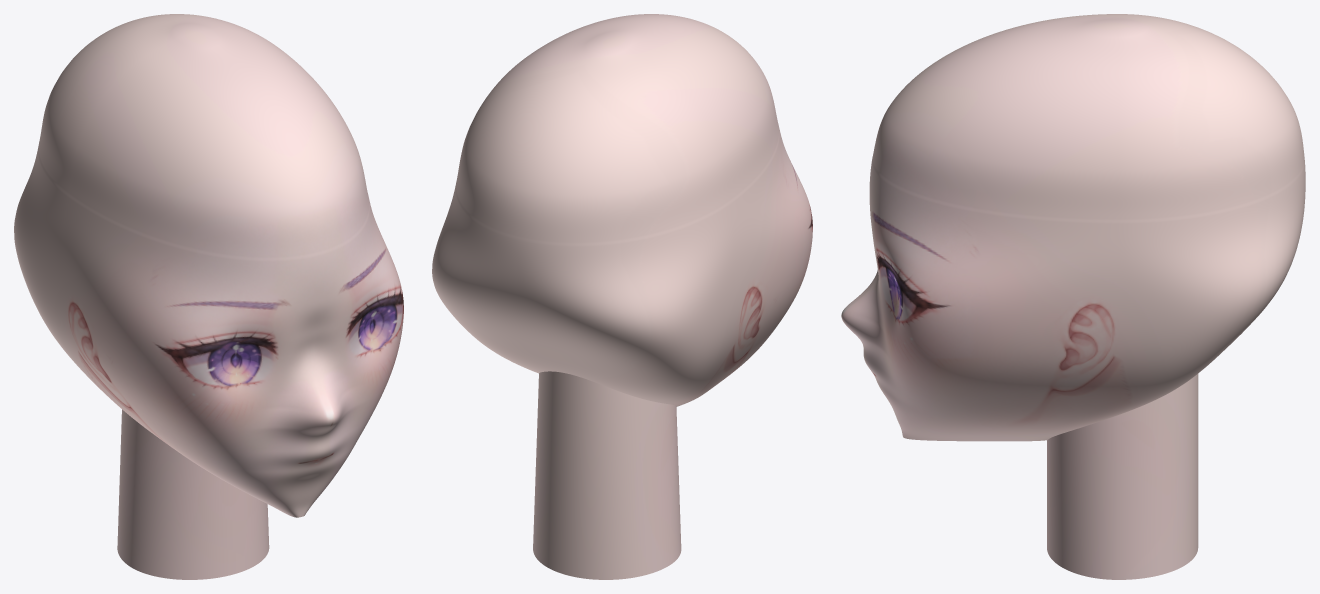
The model's file is sample2.glb.
The picture shows the model from 3 angles, left to right: view 1: azimuth 30°, elevation 25°; view 2: azimuth 150°, elevation 25°; view 3: azimuth 270°, elevation 25°; orthographic projection. The views are drawn at different scales.
Visible parts, largest first — view 1: Head; view 2: Head; view 3: Head.
Boxes of the visible parts, <box> form: Head: <box>14,14,403,579</box>; Head: <box>432,14,812,579</box>; Head: <box>841,14,1305,579</box>.
Size of the model in its own units: 0.1595 by 0.2957 by 0.2389.
1 material, 1 textured.
